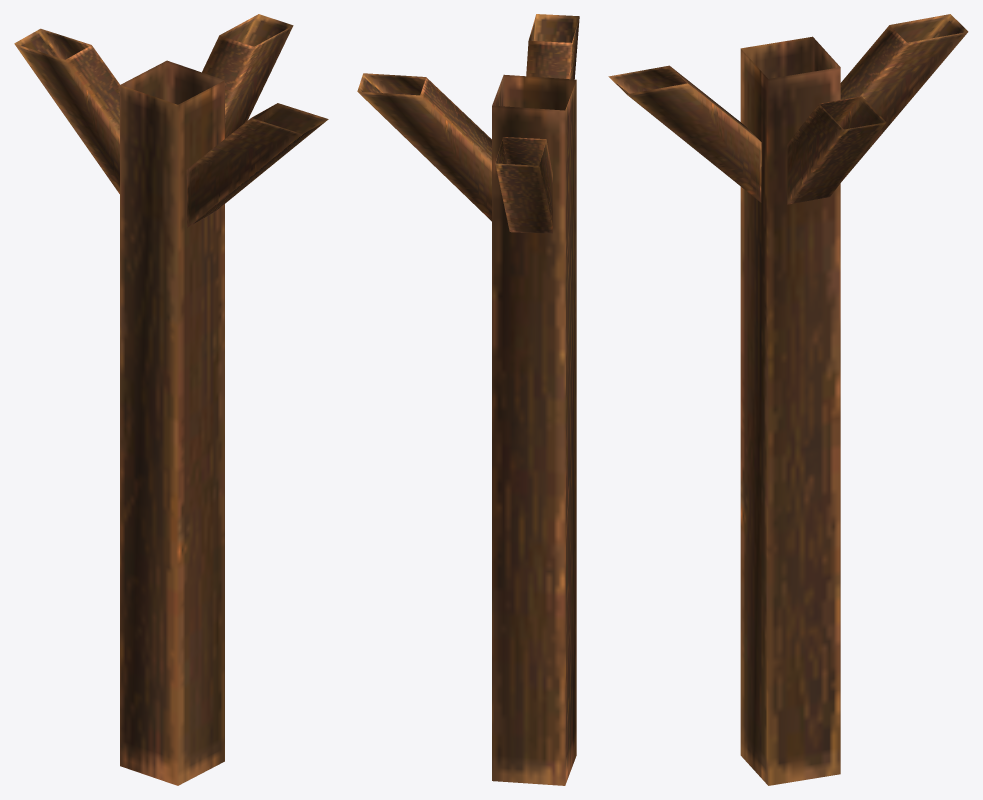
File: SWORDLIGHT20_JAILPLATSUPPORT59.fbx
3 views of the same model, side by side, from view 1: azimuth 30°, elevation 25°; view 2: azimuth 150°, elevation 25°; view 3: azimuth 270°, elevation 25° (orthographic). The views are drawn at different scales.
Parts seen in each view (by area): view 1: SWORDLIGHT20_JAILPLATSUPPORT59; view 2: SWORDLIGHT20_JAILPLATSUPPORT59; view 3: SWORDLIGHT20_JAILPLATSUPPORT59.
Boxes of the visible parts, bbox=[...] form: SWORDLIGHT20_JAILPLATSUPPORT59: bbox=[14, 14, 328, 785]; SWORDLIGHT20_JAILPLATSUPPORT59: bbox=[357, 14, 579, 785]; SWORDLIGHT20_JAILPLATSUPPORT59: bbox=[608, 14, 968, 785].
Bounding box in the file's own units: 14129 × 40457 × 18605.
Materials: 1 (1 with a texture image).
